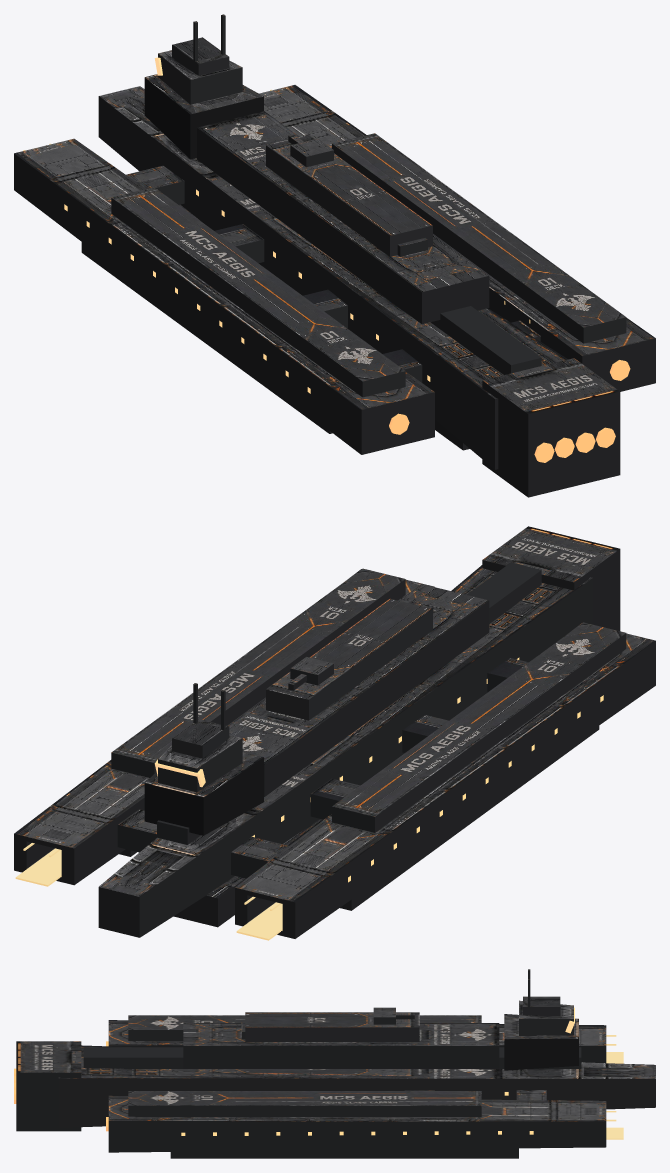
The model's file is bastion_carrier.glb.
3 views of the same model, one above another, from view 1: azimuth 30°, elevation 25°; view 2: azimuth 150°, elevation 25°; view 3: azimuth 270°, elevation 25° (orthographic). The views are drawn at different scales.
Visible parts, largest first — view 1: Bastion_Pod_Port, Bastion_Hull, Bastion_DeckLow, Bastion_PodRidge_Port, Bastion_PodRidge_Stbd, Bastion_Stern, Bastion_Pod_Stbd, Bastion_DeckUp, Bastion_BridgeBase, Bastion_Spine, Bastion_BridgeMid, Bastion_PodKeel_Port (+5 smaller); view 2: Bastion_Hull, Bastion_Pod_Port, Bastion_PodRidge_Port, Bastion_DeckLow, Bastion_PodRidge_Stbd, Bastion_Pod_Stbd, Bastion_DeckUp, Bastion_Stern, Bastion_BridgeBase, Bastion_Spine, Bastion_BridgeMid, Bastion_PodKeel_Port (+10 smaller); view 3: Bastion_Pod_Stbd, Bastion_Hull, Bastion_DeckLow, Bastion_PodRidge_Stbd, Bastion_DeckUp, Bastion_Stern, Bastion_PodKeel_Stbd, Bastion_BridgeBase, Bastion_Spine, Bastion_PodRidge_Port, Bastion_Pod_Port, Bastion_BridgeMid (+3 smaller).
Part boxes in pixels (bbox=[...]): Bastion_Pod_Port: bbox=[14, 138, 434, 454]; Bastion_Hull: bbox=[98, 86, 567, 469]; Bastion_DeckLow: bbox=[197, 111, 489, 324]; Bastion_PodRidge_Port: bbox=[111, 187, 405, 397]; Bastion_PodRidge_Stbd: bbox=[332, 133, 626, 343]; Bastion_Stern: bbox=[482, 358, 620, 497]; Bastion_Pod_Stbd: bbox=[259, 85, 655, 391]; Bastion_DeckUp: bbox=[266, 135, 432, 256]; Bastion_BridgeBase: bbox=[144, 74, 263, 159]; Bastion_Spine: bbox=[430, 306, 541, 374]; Bastion_BridgeMid: bbox=[158, 50, 242, 104]; Bastion_PodKeel_Port: bbox=[81, 242, 332, 433]; Bastion_Hull: bbox=[98, 565, 593, 937]; Bastion_Pod_Port: bbox=[235, 622, 655, 938]; Bastion_PodRidge_Port: bbox=[332, 622, 626, 832]; Bastion_DeckLow: bbox=[228, 584, 489, 796]; Bastion_PodRidge_Stbd: bbox=[111, 568, 405, 777]; Bastion_Pod_Stbd: bbox=[14, 569, 434, 885]; Bastion_DeckUp: bbox=[266, 598, 432, 720]; Bastion_Stern: bbox=[482, 526, 620, 630]; Bastion_BridgeBase: bbox=[144, 752, 263, 835]; Bastion_Spine: bbox=[157, 562, 541, 844]; Bastion_BridgeMid: bbox=[158, 735, 242, 792]; Bastion_PodKeel_Port: bbox=[340, 726, 599, 910]; Bastion_Pod_Stbd: bbox=[108, 1095, 606, 1152]; Bastion_Hull: bbox=[58, 1045, 655, 1127]; Bastion_DeckLow: bbox=[183, 1023, 499, 1068]; Bastion_PodRidge_Stbd: bbox=[128, 1091, 481, 1116]; Bastion_DeckUp: bbox=[245, 1012, 419, 1041]; Bastion_Stern: bbox=[16, 1041, 81, 1131]; Bastion_PodKeel_Stbd: bbox=[170, 1148, 518, 1158]; Bastion_BridgeBase: bbox=[504, 1014, 578, 1070]; Bastion_Spine: bbox=[83, 1047, 581, 1068]; Bastion_PodRidge_Port: bbox=[128, 1015, 481, 1041]; Bastion_Pod_Port: bbox=[108, 1020, 606, 1063]; Bastion_BridgeMid: bbox=[519, 1000, 573, 1035].
Bounding box in the file's own units: 9.6 × 6.55 × 25.8.
Materials: 11 (1 with a texture image).
